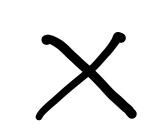mult: (40, 31, 136, 119)
